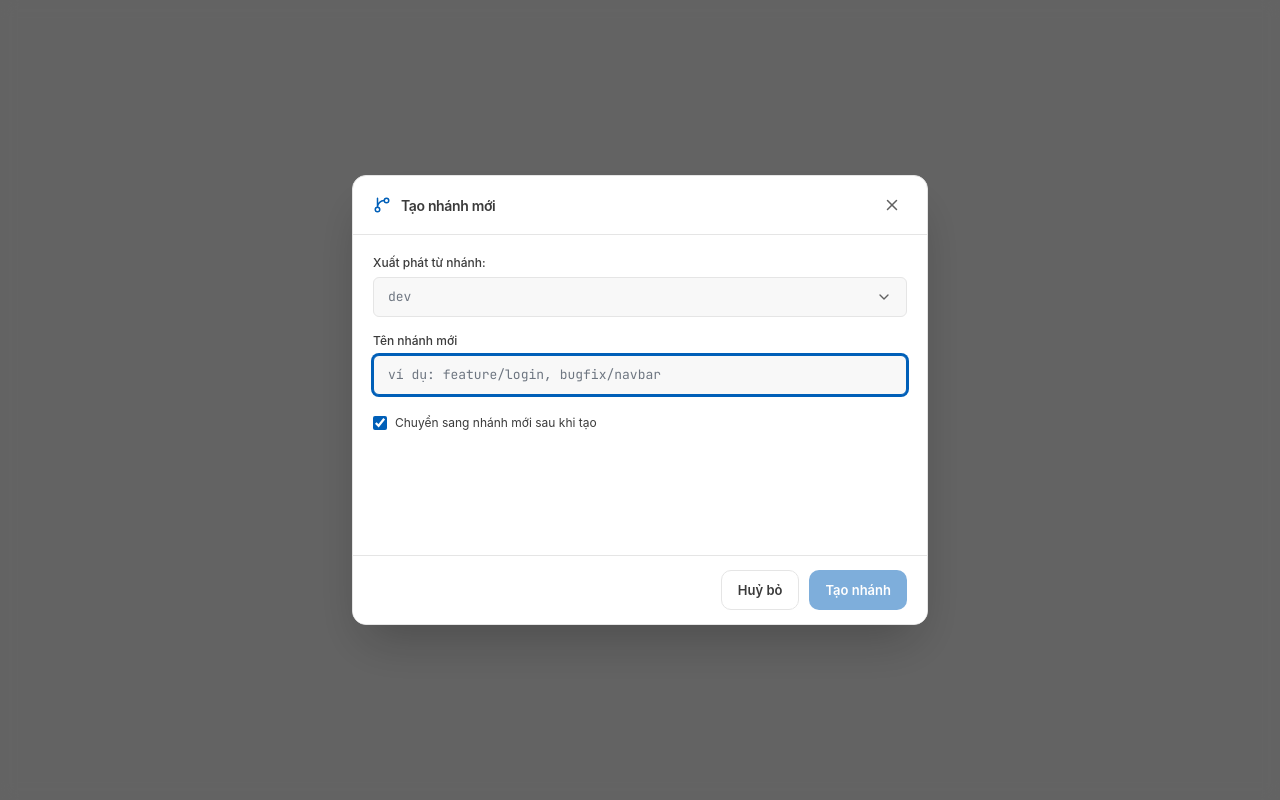
Test: CreateBranchModal checkout conflict › offers stash and create-only only for a checkout conflict
Type "feat-x" into the field labelled "Tên nhánh mới" at (640, 375), box 373,355 -> 907,395
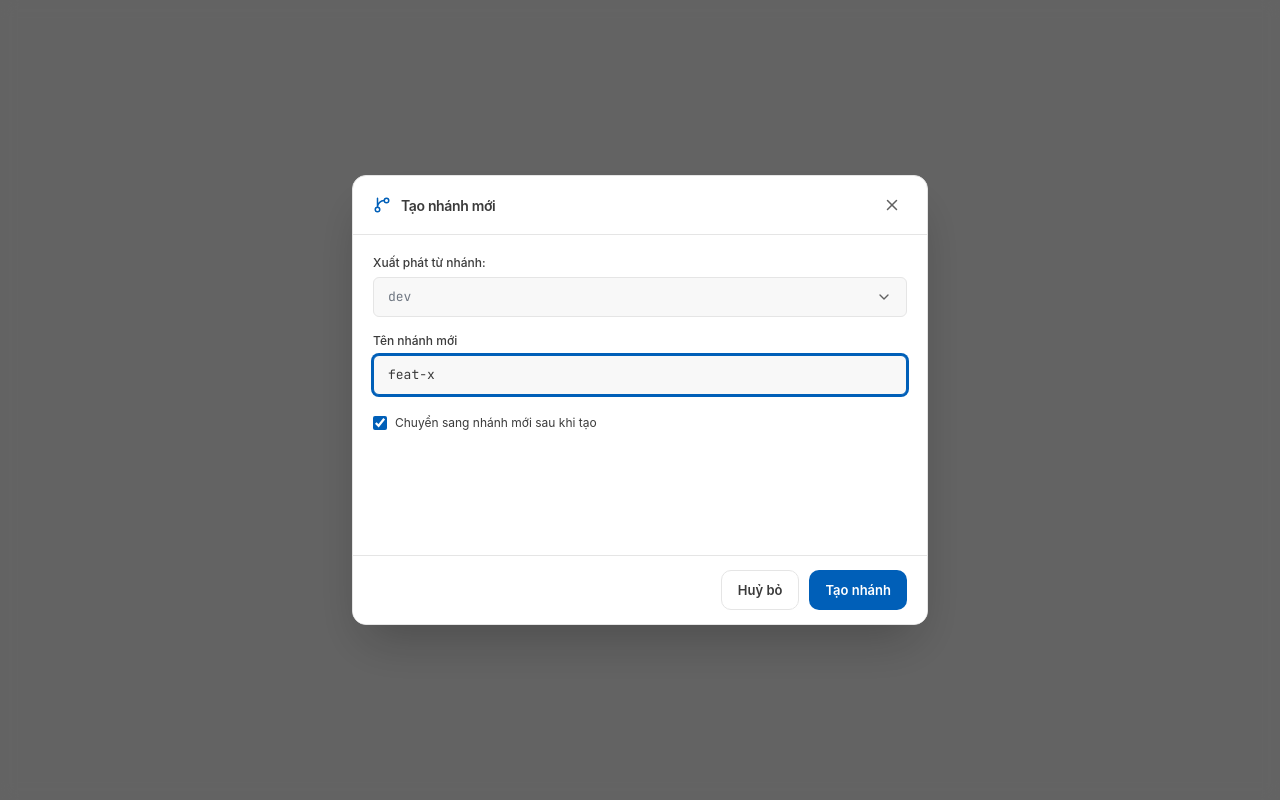
Click the button "Tạo nhánh" at (858, 590), box 809,570 -> 907,610
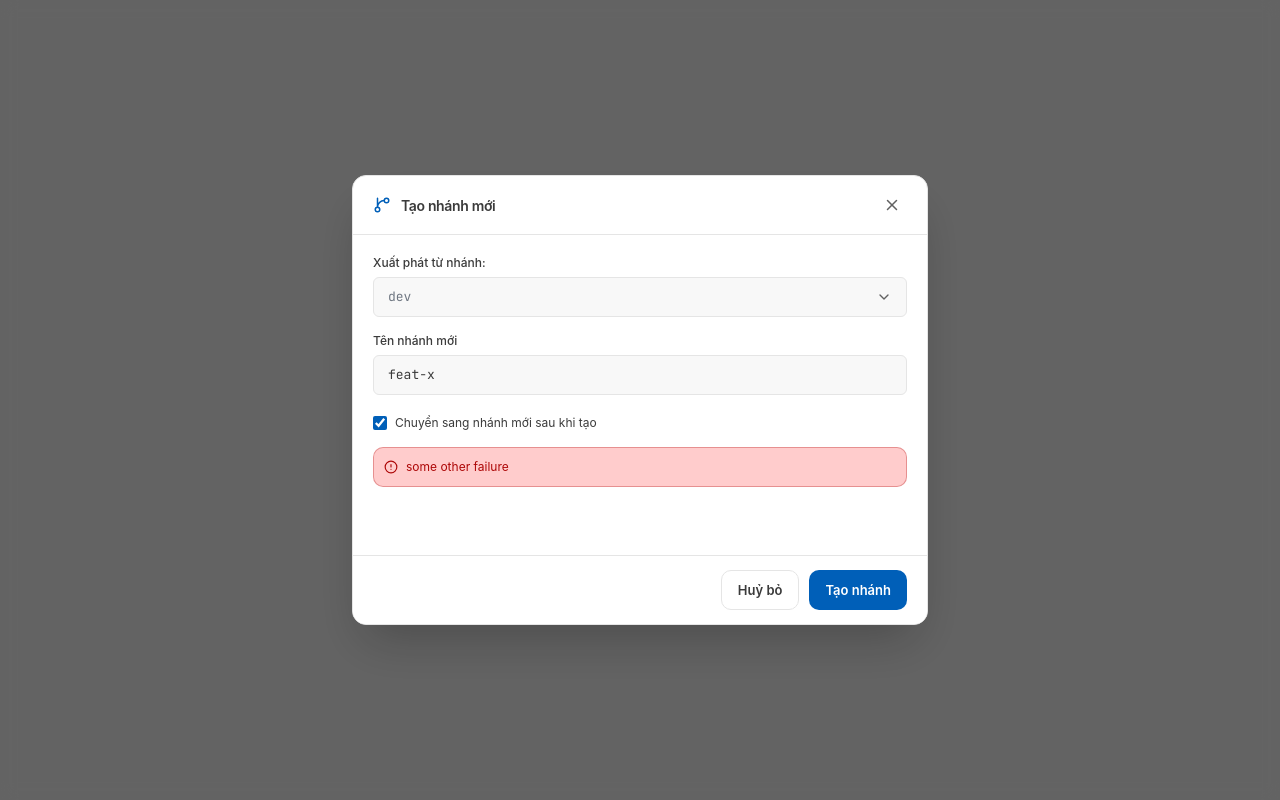
Expected: the message reads "some other failure", 406,459 -> 509,474
